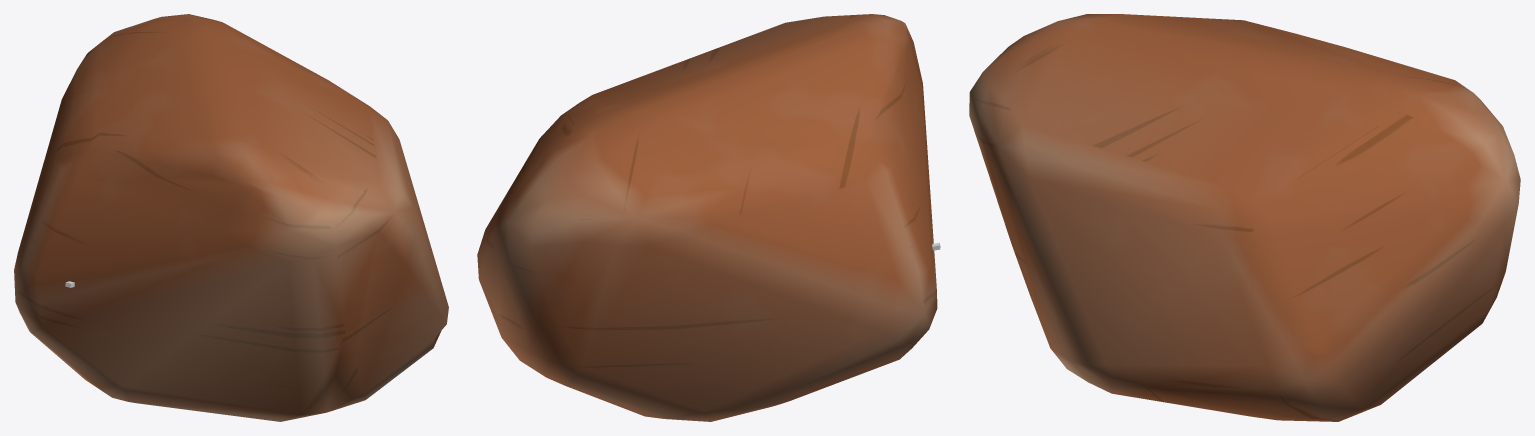
The model's file is desert_rocks.glb.
3 renders of one model, left to right at view 1: azimuth 30°, elevation 25°; view 2: azimuth 150°, elevation 25°; view 3: azimuth 270°, elevation 25°, orthographic. The views are drawn at different scales.
Parts seen in each view (by area): view 1: Cube; view 2: Cube; view 3: Cube.
Boxes of the visible parts, box(x1,y1,x2,y2) form: Cube: box(14, 14, 448, 421); Cube: box(477, 14, 940, 421); Cube: box(969, 14, 1520, 421).
Bounding box in the file's own units: 1.2 × 0.8306 × 1.34.
1 material, 1 textured.
